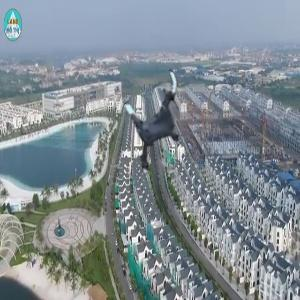drone: (108, 70, 204, 166)
